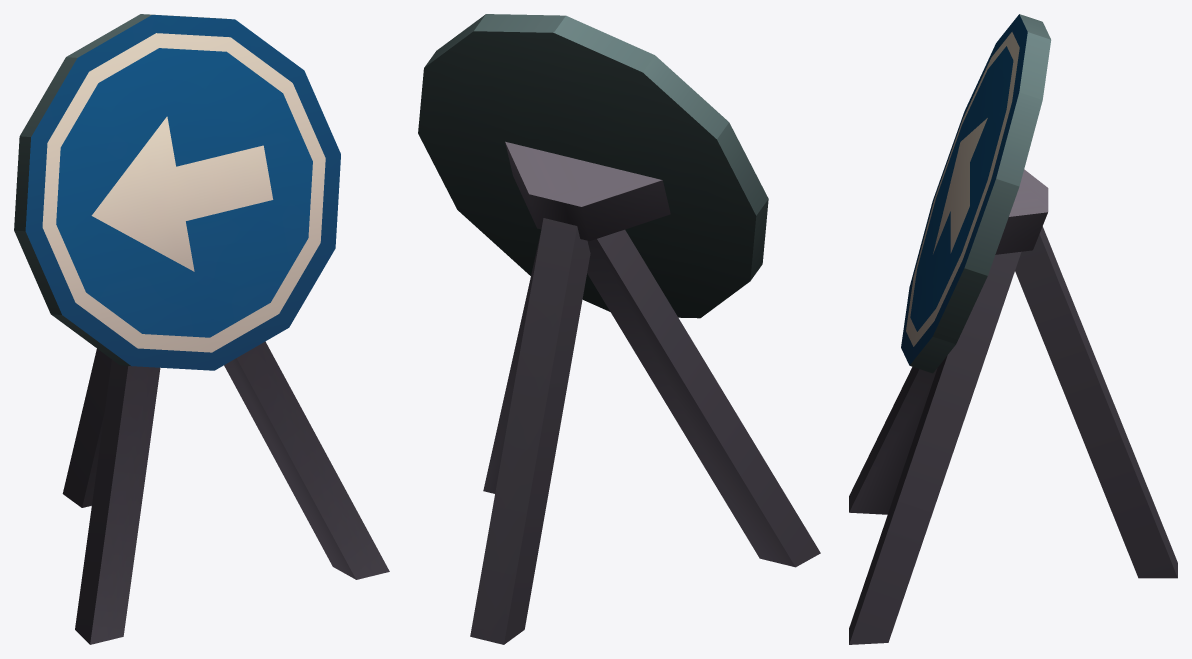
File: Streetsign_3D.fbx
3 views of the same model, side by side, from view 1: azimuth 30°, elevation 25°; view 2: azimuth 150°, elevation 25°; view 3: azimuth 270°, elevation 25° (orthographic). The views are drawn at different scales.
Visible parts, largest first — view 1: Streetsign_3D; view 2: Streetsign_3D; view 3: Streetsign_3D.
Boxes of the visible parts, x1,y1,x2,y2 form: Streetsign_3D: [14, 14, 389, 644]; Streetsign_3D: [418, 14, 820, 644]; Streetsign_3D: [849, 14, 1177, 644].
Size of the model in its own units: 88.97 by 143 by 78.91.
